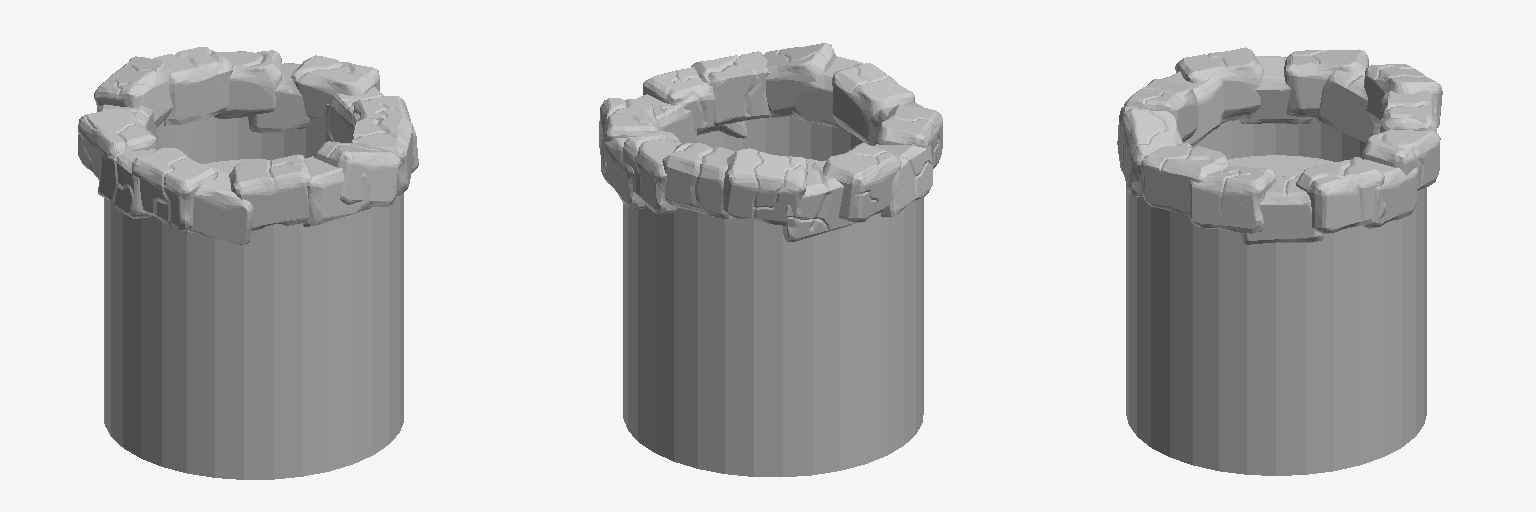
File: entrada1.OBJ
The picture shows the model from 3 angles: view 1: azimuth 30°, elevation 25°; view 2: azimuth 150°, elevation 25°; view 3: azimuth 270°, elevation 25°; orthographic projection.
Visible parts, largest first — view 1: Group20649, Group52855, Group58239; view 2: Group20649, Group52855, Group58239; view 3: Group20649, Group52855, Group58239, Group58236.
Boxes of the visible parts, <box> form: Group20649: <box>104,104,403,479</box>; Group52855: <box>78,47,418,244</box>; Group58239: <box>157,104,331,163</box>; Group20649: <box>623,197,923,476</box>; Group52855: <box>599,43,942,241</box>; Group58239: <box>696,116,861,160</box>; Group20649: <box>1126,185,1426,475</box>; Group52855: <box>1117,47,1442,244</box>; Group58239: <box>1193,117,1380,161</box>; Group58236: <box>1228,155,1337,175</box>.
Bounding box in the file's own units: 12.04 × 12.47 × 11.62.